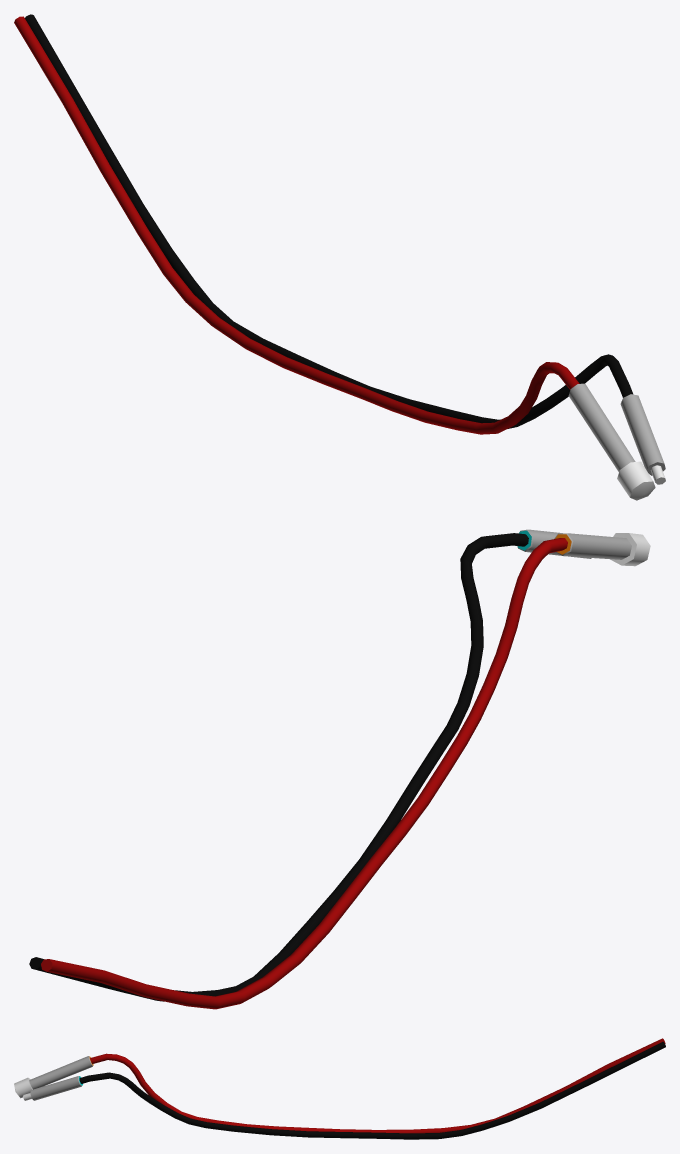
The model's file is WW_dead_cables_prop.fbx.
The picture shows the model from 3 angles, top to bottom: view 1: azimuth 30°, elevation 25°; view 2: azimuth 150°, elevation 25°; view 3: azimuth 270°, elevation 25°; orthographic projection. The views are drawn at different scales.
Visible parts, largest first — view 1: pCylinder27, pCylinder28; view 2: pCylinder27, pCylinder28; view 3: pCylinder28, pCylinder27.
Boxes of the visible parts, x1,y1,x2,y2 form: pCylinder27: [14, 16, 655, 500]; pCylinder28: [25, 14, 665, 484]; pCylinder27: [41, 533, 650, 1009]; pCylinder28: [29, 529, 591, 1001]; pCylinder28: [23, 1041, 665, 1139]; pCylinder27: [14, 1038, 665, 1133].
Size of the model in its own units: 0.8097 by 1.15 by 6.99.
